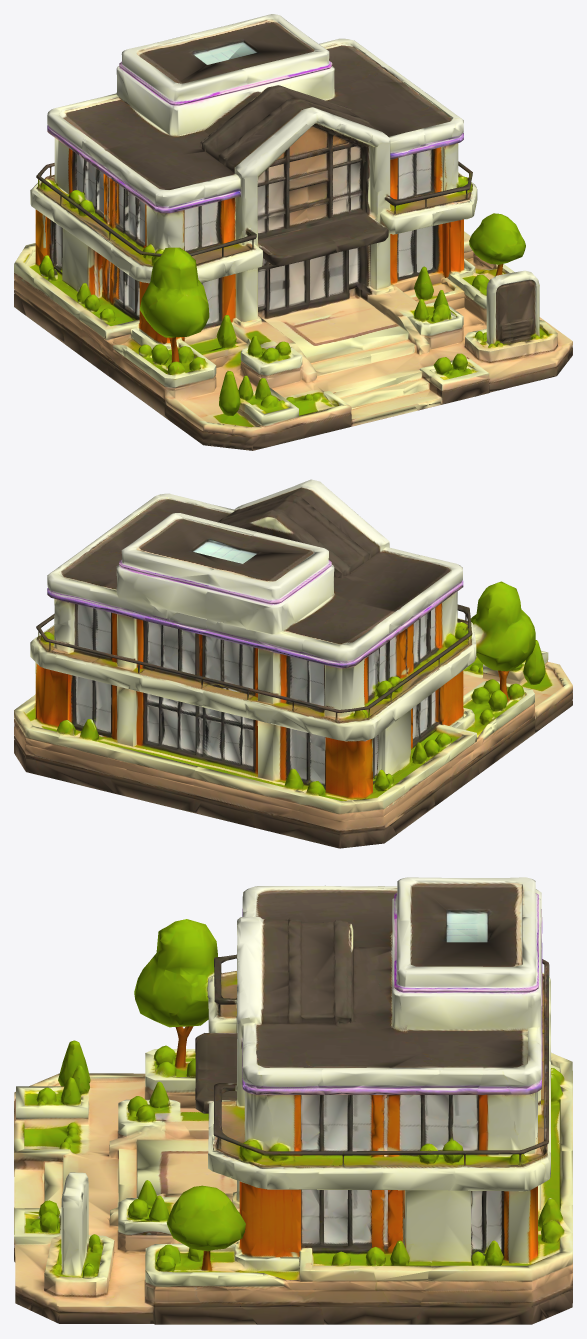
Rendered from voxel-villa.glb.
3 renders of one model, top to bottom at view 1: azimuth 30°, elevation 25°; view 2: azimuth 150°, elevation 25°; view 3: azimuth 270°, elevation 25°, orthographic. The views are drawn at different scales.
Bounding box in the file's own units: 1.88 × 1.09 × 1.9.
Materials: 1 (1 with a texture image).
